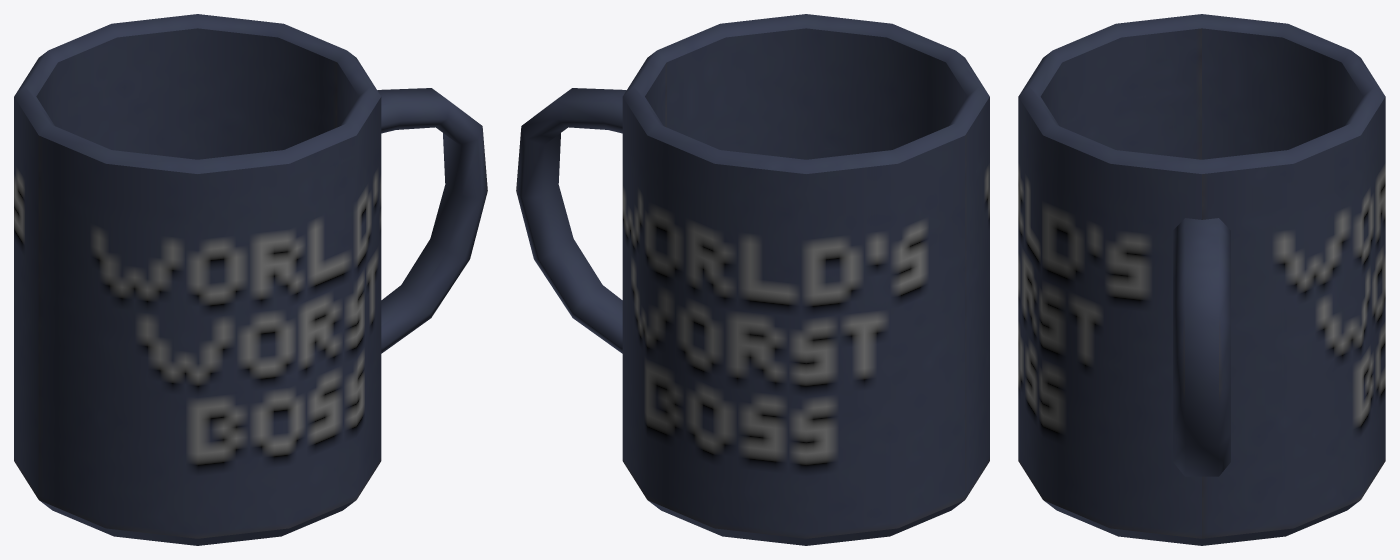
The model's file is cup_etx_1.obj.
3 renders of one model, left to right at view 1: azimuth 30°, elevation 25°; view 2: azimuth 150°, elevation 25°; view 3: azimuth 270°, elevation 25°, orthographic.
Visible parts, largest first — view 1: cup_etx_1; view 2: cup_etx_1; view 3: cup_etx_1.
Boxes of the visible parts, x1,y1,x2,y2 form: cup_etx_1: (14, 14, 487, 545); cup_etx_1: (516, 14, 989, 545); cup_etx_1: (1018, 14, 1385, 545).
Size of the model in its own units: 0.1663 by 0.14 by 0.12.
